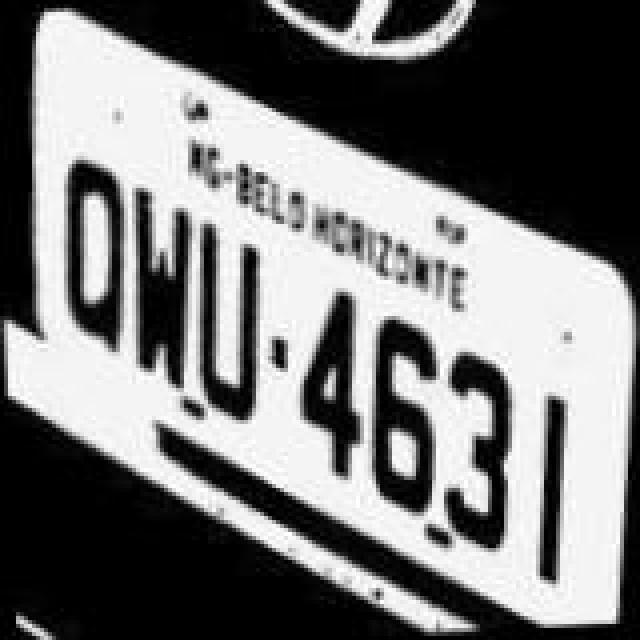1: (520, 380, 576, 600)
3: (434, 322, 522, 550)
4: (288, 270, 368, 490)
6: (358, 302, 438, 526)
Q: (52, 150, 132, 358)
U: (190, 210, 270, 434)
W: (124, 174, 196, 394)
